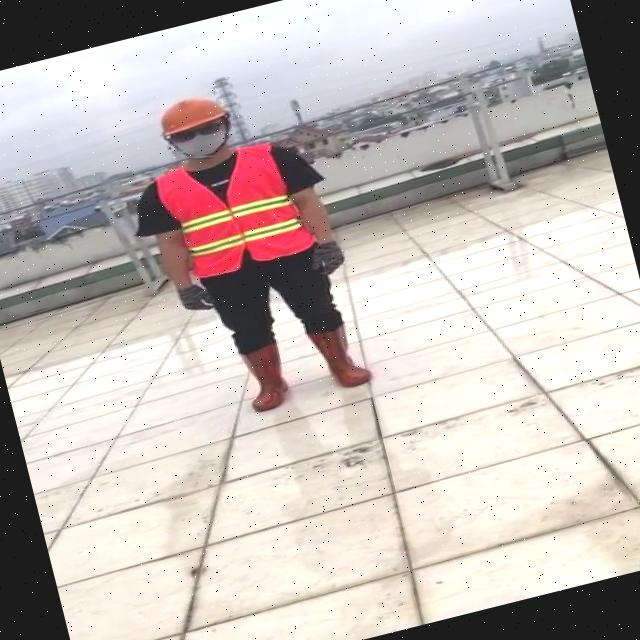helmet: (148, 89, 230, 138)
vest: (148, 134, 314, 284)
